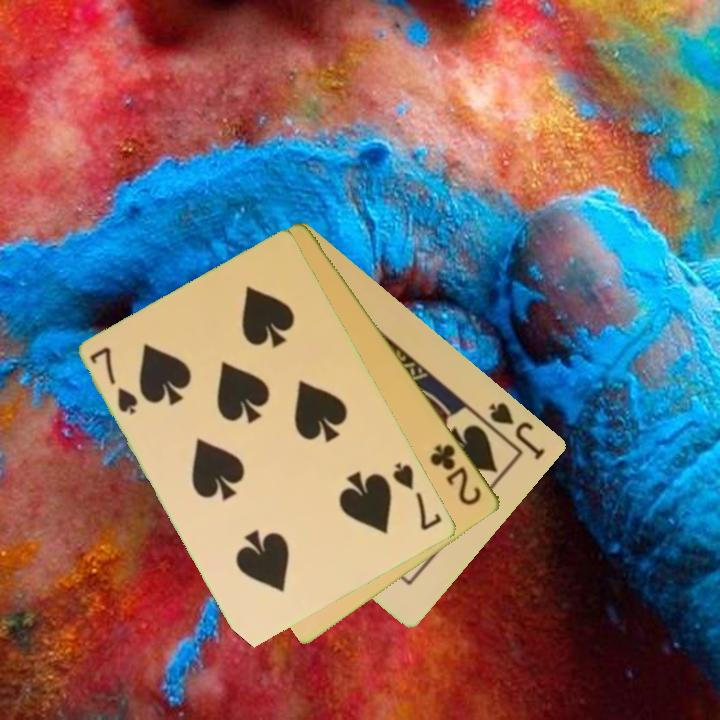2c: (427, 440, 485, 509)
7s: (389, 459, 445, 534), (87, 343, 142, 418)
Js: (485, 398, 549, 463)
